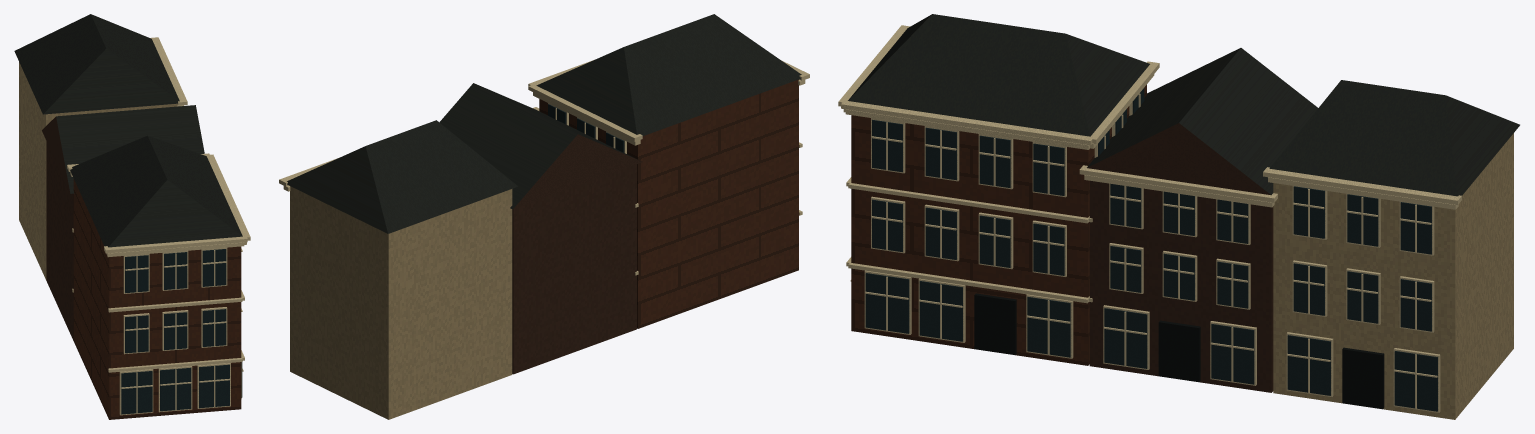
3 views of the same model, side by side, from view 1: azimuth 30°, elevation 25°; view 2: azimuth 150°, elevation 25°; view 3: azimuth 270°, elevation 25° (orthographic). The views are drawn at different scales.
Visible parts, largest first — view 1: slaak-straatbeeld-1, slaak-straatbeeld-0, slaak-straatbeeld-3, slaak-straatbeeld-2, slaak-straatbeeld-6, slaak-straatbeeld-5; view 2: slaak-straatbeeld-6, slaak-straatbeeld-1, slaak-straatbeeld-0, slaak-straatbeeld-5, slaak-straatbeeld-2, slaak-straatbeeld-3; view 3: slaak-straatbeeld-1, slaak-straatbeeld-3, slaak-straatbeeld-6, slaak-straatbeeld-2, slaak-straatbeeld-0, slaak-straatbeeld-5, slaak-straatbeeld-4.
Part boxes in pixels (box(x1,y1,x2,y2)): slaak-straatbeeld-1: box(14, 14, 242, 247); slaak-straatbeeld-0: box(73, 179, 241, 419); slaak-straatbeeld-3: box(121, 249, 242, 414); slaak-straatbeeld-2: box(67, 37, 250, 415); slaak-straatbeeld-6: box(19, 62, 177, 279); slaak-straatbeeld-5: box(42, 117, 73, 340); slaak-straatbeeld-6: box(290, 186, 512, 419); slaak-straatbeeld-1: box(287, 14, 801, 233); slaak-straatbeeld-0: box(539, 79, 798, 328); slaak-straatbeeld-5: box(512, 134, 642, 374); slaak-straatbeeld-2: box(279, 60, 809, 275); slaak-straatbeeld-3: box(548, 104, 624, 152); slaak-straatbeeld-1: box(848, 14, 1519, 196); slaak-straatbeeld-3: box(865, 88, 1437, 411); slaak-straatbeeld-6: box(1273, 133, 1513, 419); slaak-straatbeeld-2: box(838, 25, 1461, 412); slaak-straatbeeld-0: box(851, 84, 1146, 365); slaak-straatbeeld-5: box(1087, 123, 1273, 392); slaak-straatbeeld-4: box(974, 293, 1384, 409).
Bounding box in the file's own units: 19.16 × 15.2 × 32.5.
7 materials, 7 textured.
